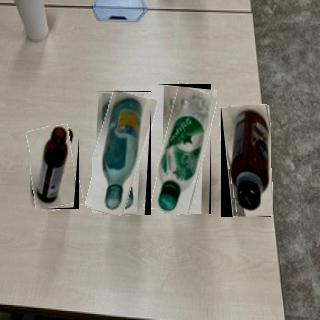bottle: (92, 91, 152, 216), (157, 84, 212, 215), (221, 105, 272, 218), (30, 126, 80, 210)
